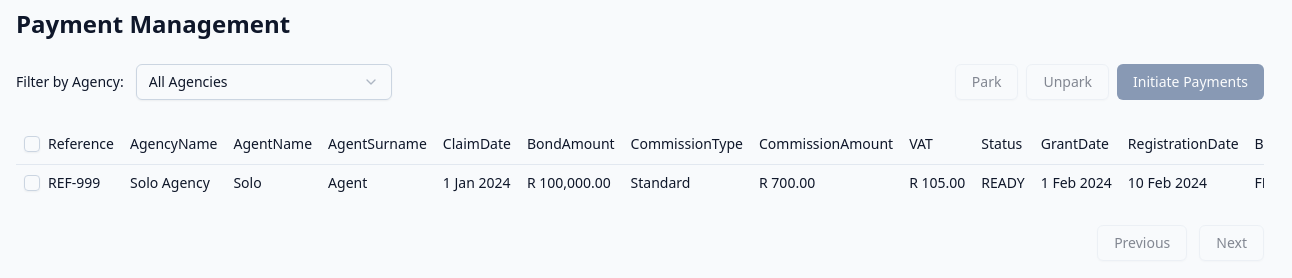
Test: Edge: single-row page header checkbox (AC-3) › header checkbox shows as fully checked (not indeterminate) when only one row exists and it is selected
This screenshot has width=1292, height=278.
Click the checkbox named "select all": (32, 144) [24, 136, 40, 152]
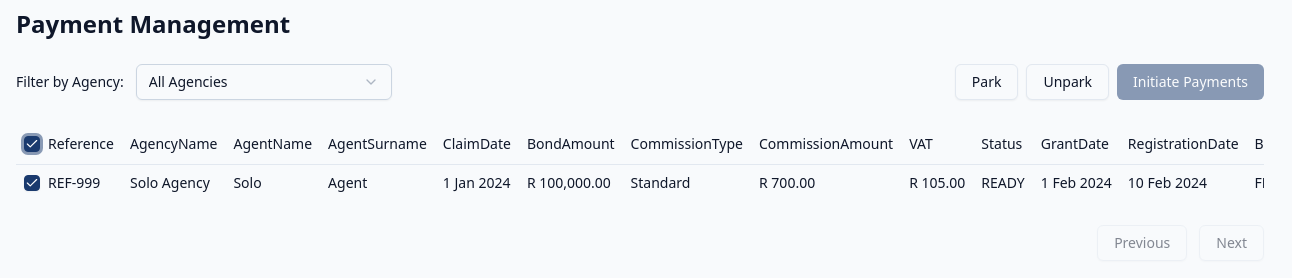
Check: the checkbox named "select all" is checked, box [24, 136, 40, 152]
Check: the button "Park" is enabled, box [955, 64, 1018, 100]
